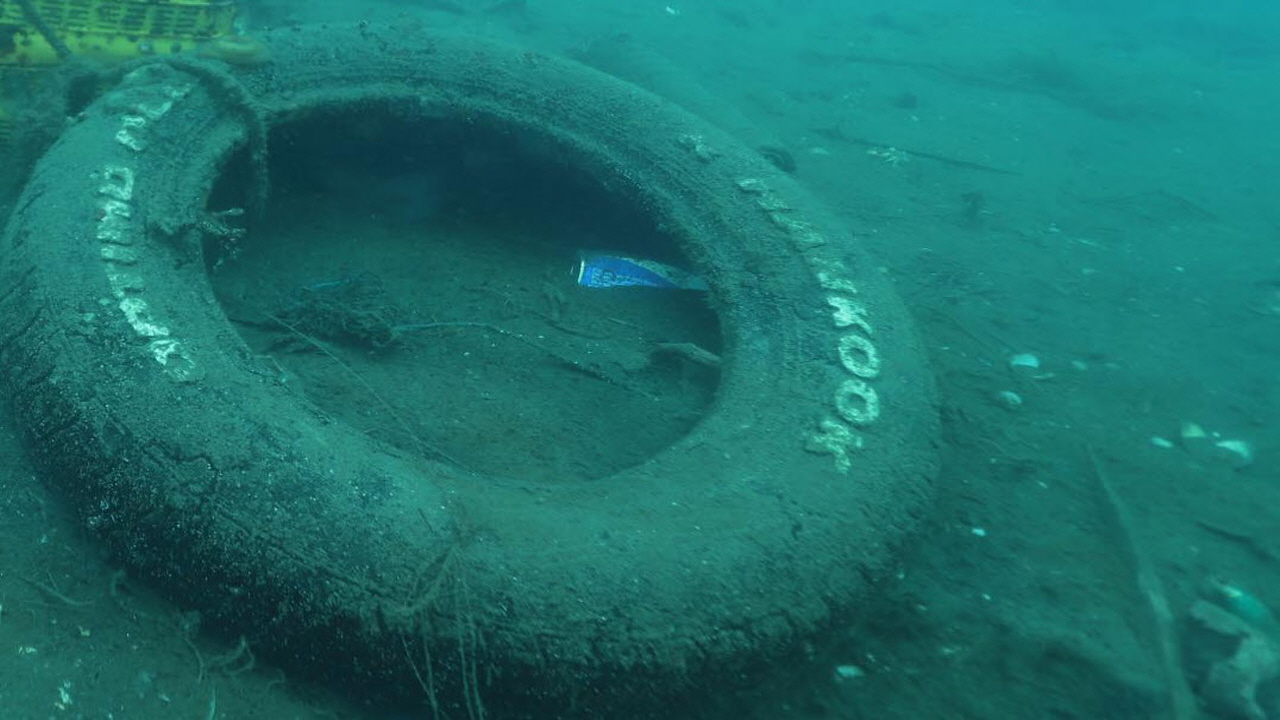tire: (0, 26, 940, 715)
